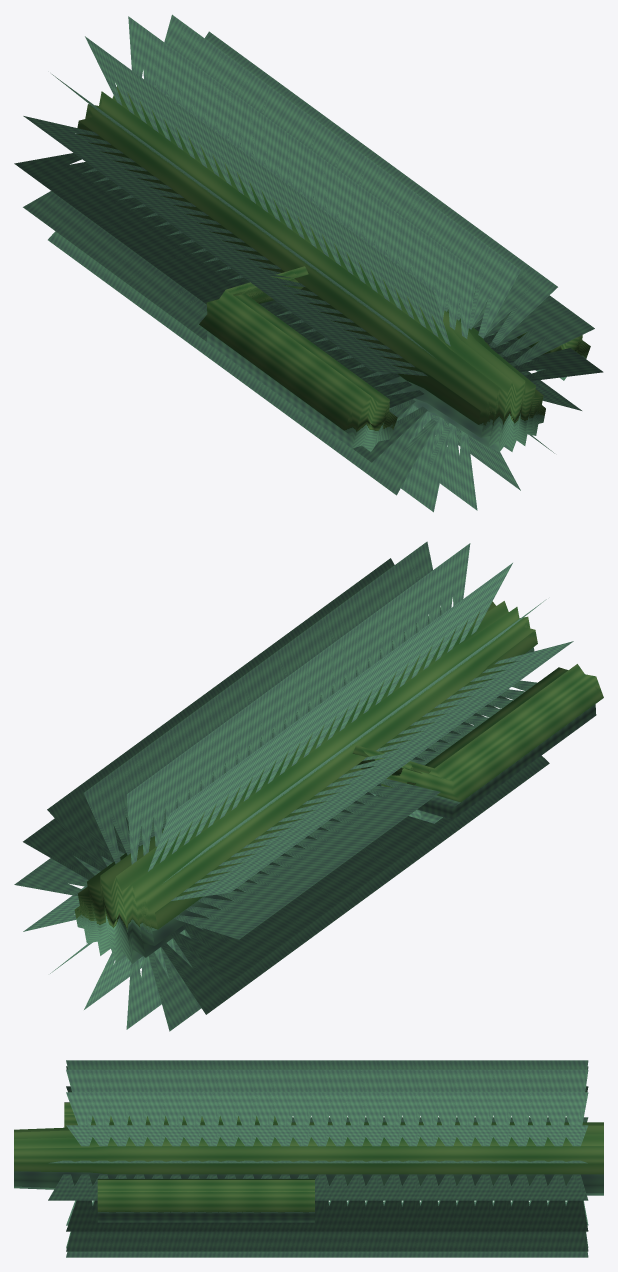
The model's file is veg_succulent_aloe_01.glb.
3 renders of one model, top to bottom at view 1: azimuth 30°, elevation 25°; view 2: azimuth 150°, elevation 25°; view 3: azimuth 270°, elevation 25°, orthographic. The views are drawn at different scales.
Parts seen in each view (by area): view 1: veg_succulent_aloe_01; view 2: veg_succulent_aloe_01; view 3: veg_succulent_aloe_01.
Part boxes in pixels (x1=…): veg_succulent_aloe_01: x1=14, y1=14, x2=603, y2=512; veg_succulent_aloe_01: x1=14, y1=541, x2=603, y2=1031; veg_succulent_aloe_01: x1=14, y1=1060, x2=603, y2=1257.
Bounding box in the file's own units: 0.3154 × 0.2678 × 0.8.
Materials: 1 (1 with a texture image).
